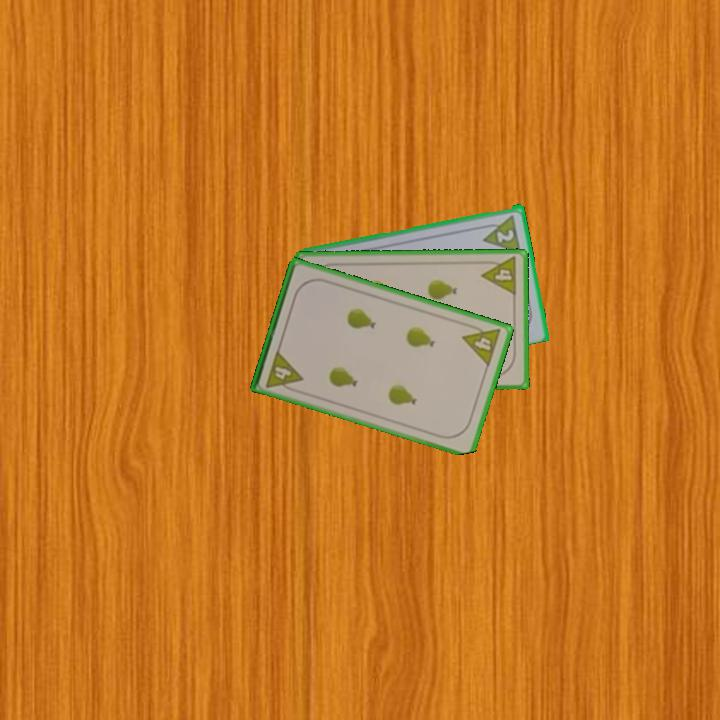2p: (477, 211, 523, 254)
4p: (459, 320, 504, 369), (262, 347, 305, 395), (478, 254, 520, 298)
